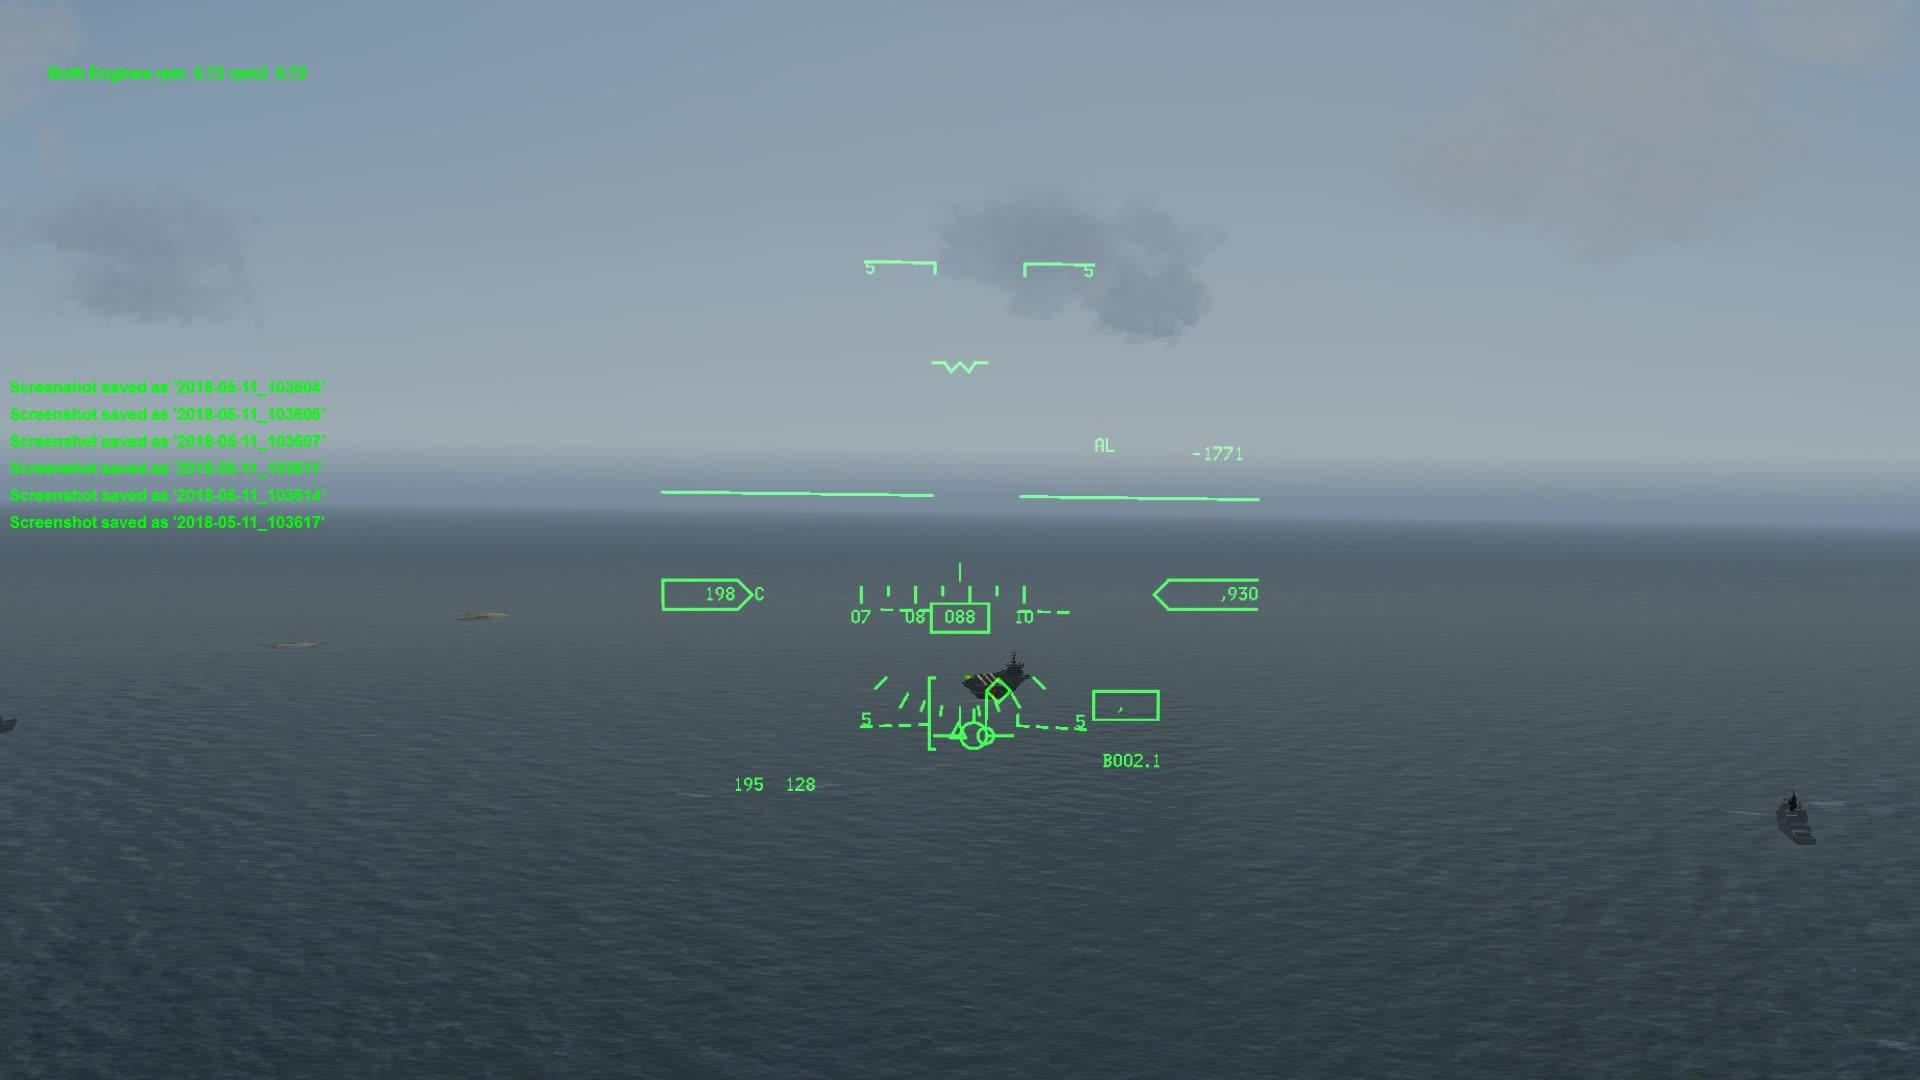speed vector: (935, 717, 1021, 753)
